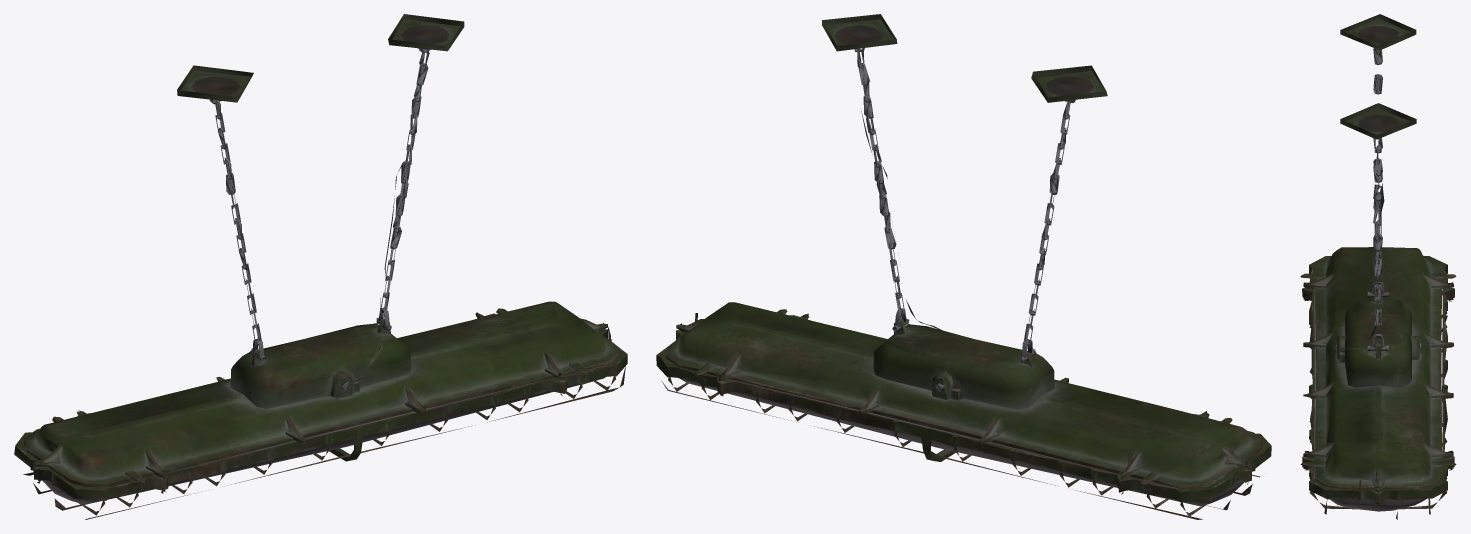
The model's file is caged_hanging_light.glb.
3 views of the same model, side by side, from view 1: azimuth 30°, elevation 25°; view 2: azimuth 150°, elevation 25°; view 3: azimuth 270°, elevation 25° (orthographic). The views are drawn at different scales.
Visible parts, largest first — view 1: caged_hanging_light; view 2: caged_hanging_light; view 3: caged_hanging_light.
Boxes of the visible parts, x1,y1,x2,y2 form: caged_hanging_light: (14, 14, 627, 519); caged_hanging_light: (656, 14, 1271, 519); caged_hanging_light: (1300, 14, 1456, 519).
Bounding box in the file's own units: 1.16 × 0.7501 × 0.3149.
Materials: 1 (1 with a texture image).
